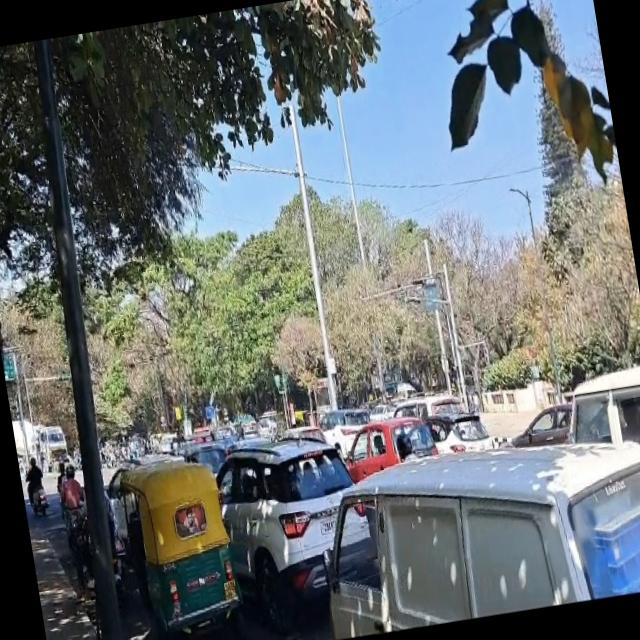cars: (309, 424, 640, 640), (202, 429, 386, 640), (340, 417, 444, 487)
